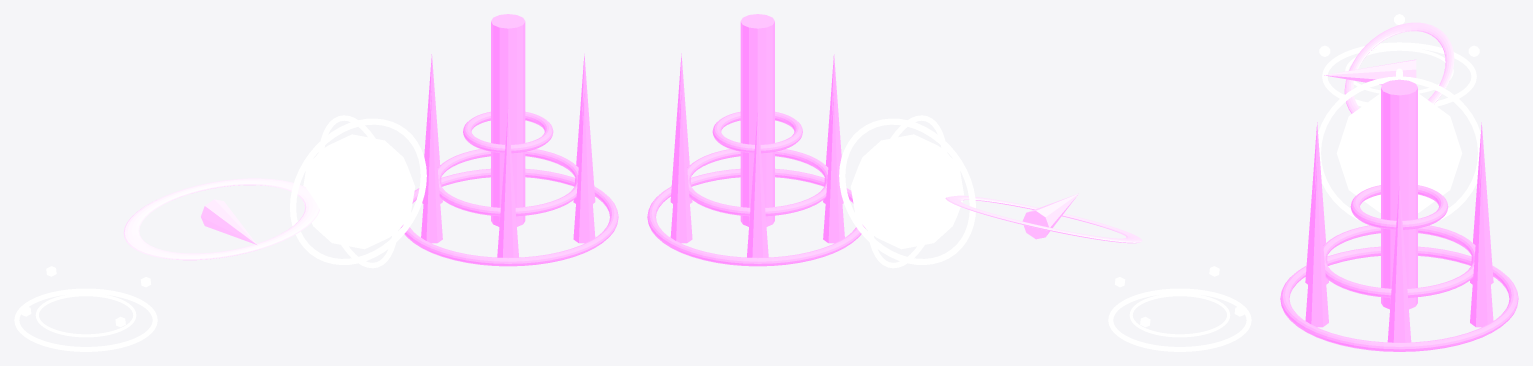
File: alya_skills_vfx.glb
3 views of the same model, side by side, from view 1: azimuth 30°, elevation 25°; view 2: azimuth 150°, elevation 25°; view 3: azimuth 270°, elevation 25° (orthographic). The views are drawn at different scales.
Parts seen in each view (by area): view 1: VFX_Ultimate, VFX_Skill_2, VFX_Skill_1, VFX_Passive; view 2: VFX_Ultimate, VFX_Skill_2, VFX_Passive, VFX_Skill_1; view 3: VFX_Ultimate, VFX_Skill_2, VFX_Skill_1, VFX_Passive.
Part boxes in pixels (<box>): VFX_Ultimate: <box>400,14,618,266</box>; VFX_Skill_2: <box>290,115,426,268</box>; VFX_Skill_1: <box>123,178,319,260</box>; VFX_Passive: <box>14,266,157,351</box>; VFX_Ultimate: <box>647,14,865,266</box>; VFX_Skill_2: <box>839,115,975,268</box>; VFX_Passive: <box>1108,266,1251,351</box>; VFX_Skill_1: <box>945,193,1142,243</box>; VFX_Ultimate: <box>1280,79,1518,351</box>; VFX_Skill_2: <box>1318,68,1480,220</box>; VFX_Skill_1: <box>1324,22,1454,113</box>; VFX_Passive: <box>1319,14,1479,106</box>.
Size of the model in its own units: 8.55 by 2.88 by 2.81.
